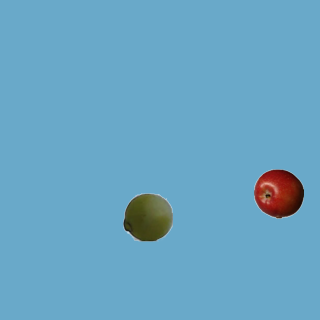Apple Braeburn: (253, 168, 303, 218)
Grape White 4: (122, 191, 172, 241)
